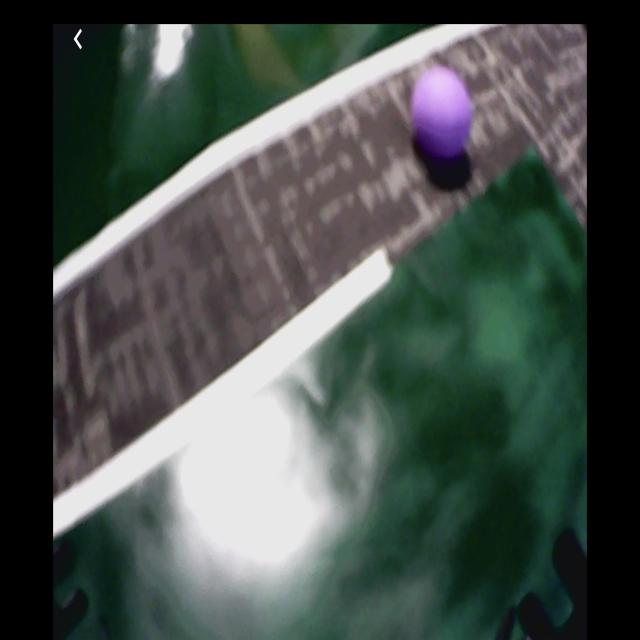ball: (411, 67, 473, 164)
